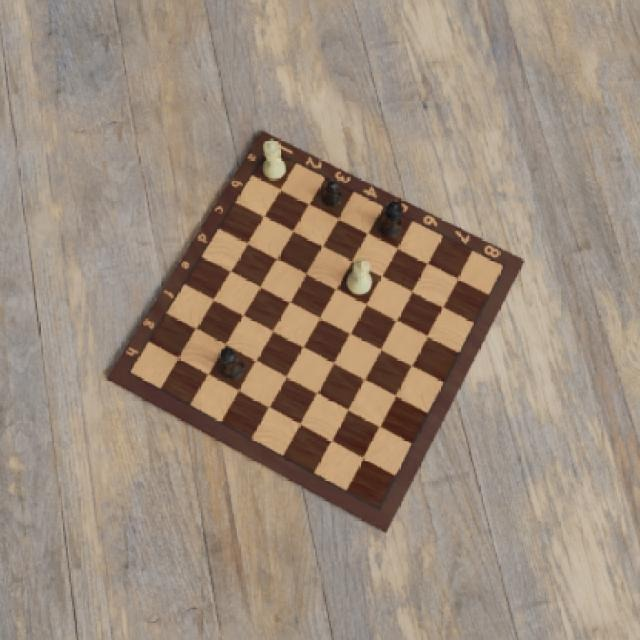black-king: (215, 345, 245, 381)
black-pawn: (322, 181, 340, 207)
black-queen: (379, 199, 405, 241)
white-king: (348, 257, 376, 299)
white-queen: (263, 136, 285, 183)
